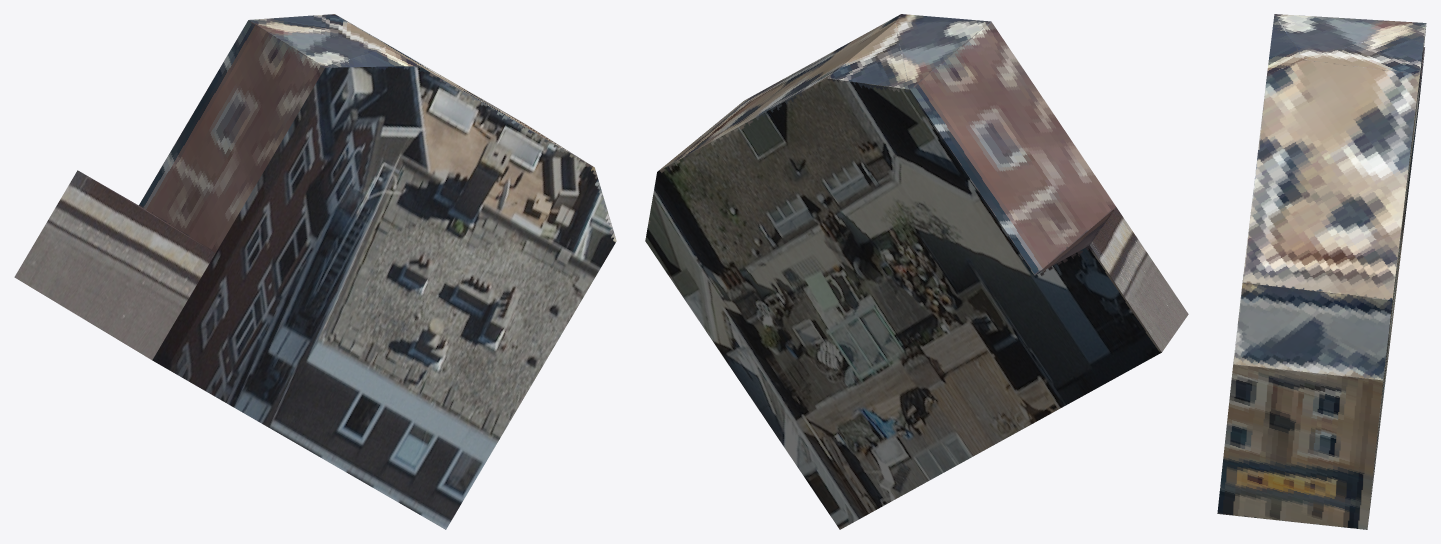
3 views of the same model, side by side, from view 1: azimuth 30°, elevation 25°; view 2: azimuth 150°, elevation 25°; view 3: azimuth 270°, elevation 25° (orthographic). The views are drawn at different scales.
Visible parts, largest first — view 1: BAG_0599100000671740 (×4); view 2: BAG_0599100000671740 (×3); view 3: BAG_0599100000671740 (×3).
Boxes of the visible parts, <box> form: BAG_0599100000671740 (×4): <box>14,14,616,529</box>; BAG_0599100000671740 (×3): <box>645,14,1188,529</box>; BAG_0599100000671740 (×3): <box>1217,14,1426,529</box>.
Size of the model in its own units: 22.68 by 20.12 by 8.13.
Materials: 4 (4 with a texture image).
